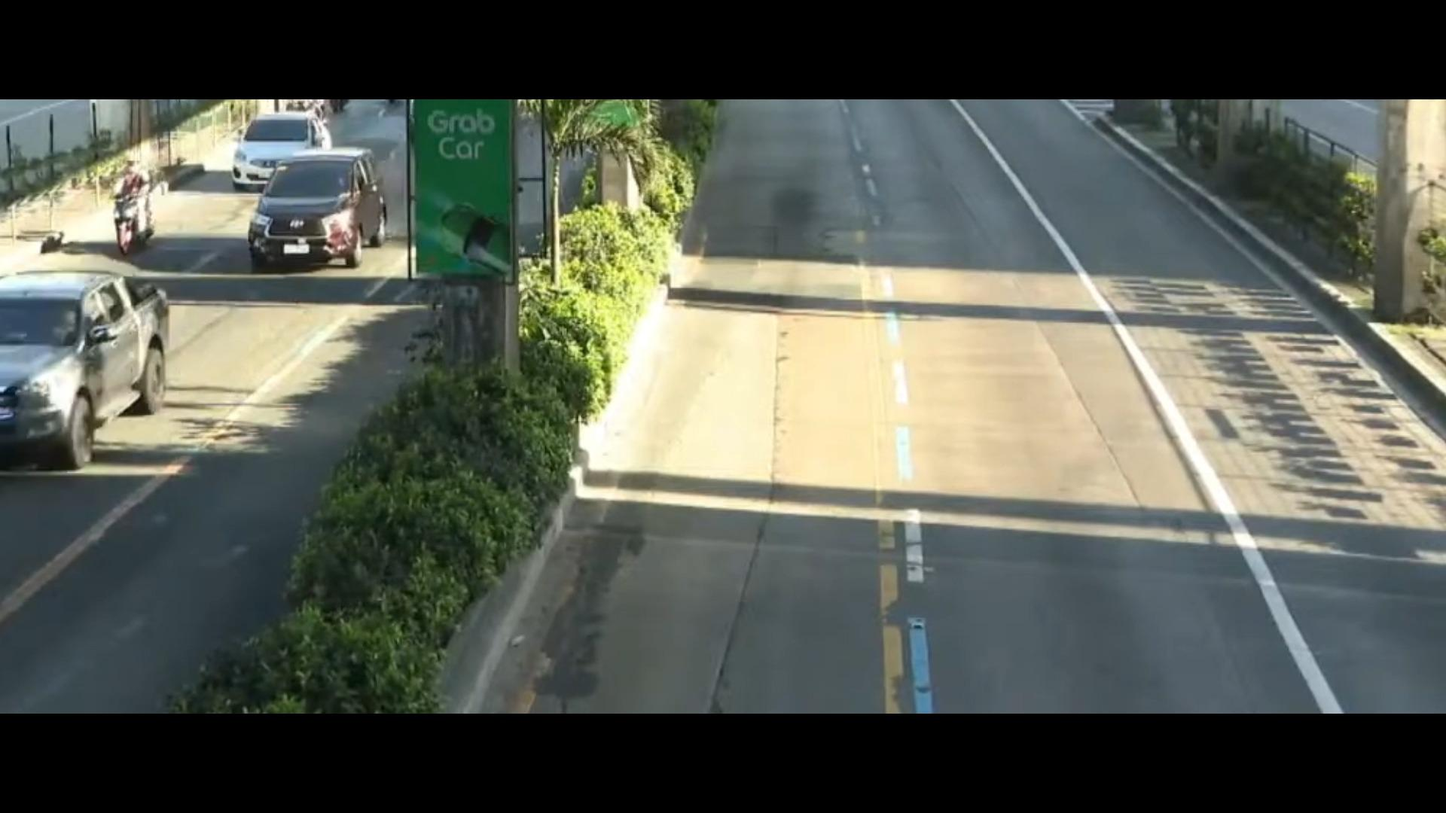Motorcycle: (94, 149, 170, 247)
Pickup: (0, 262, 191, 473)
SUV: (234, 134, 396, 291)
Sedan: (218, 108, 320, 187)
